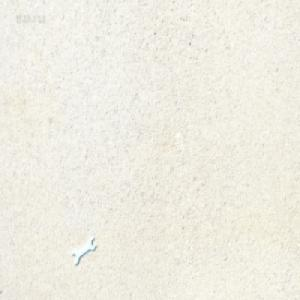Wrench: (72, 237, 96, 266)
